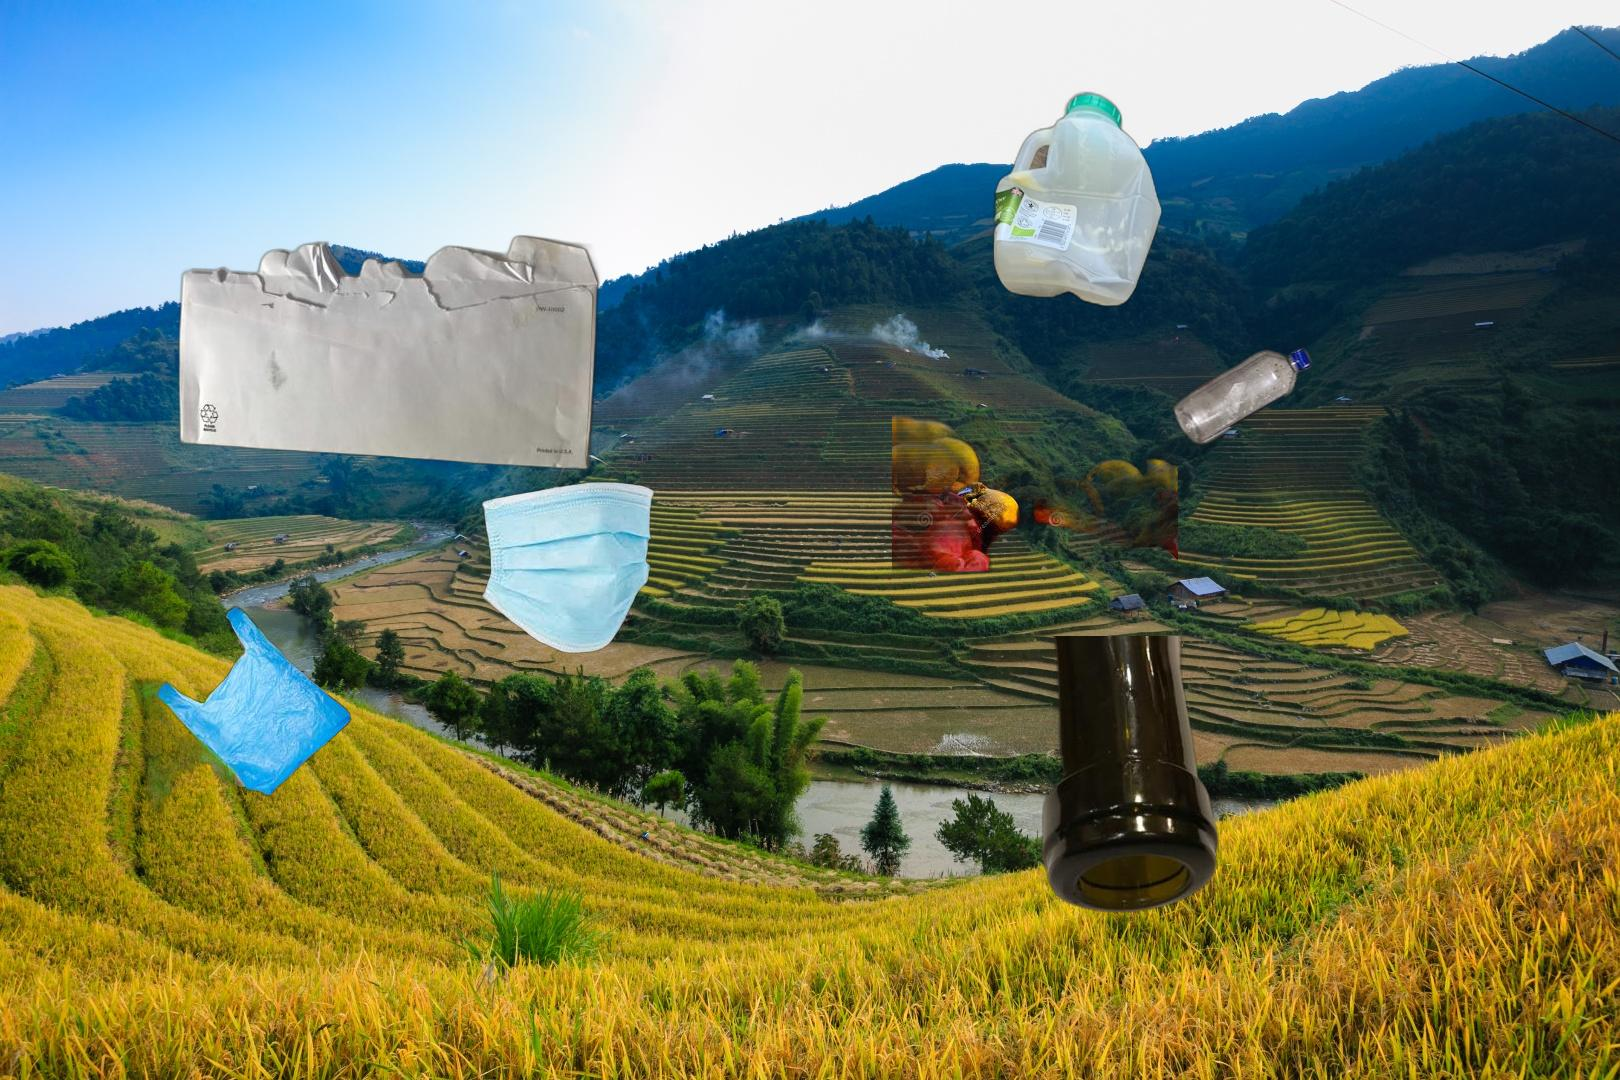biological: (892, 416, 1178, 592)
glass: (1037, 636, 1222, 916)
paper: (174, 233, 603, 472)
plastic-bag: (127, 603, 354, 815)
plastic-bottles: (1168, 342, 1620, 916), (990, 86, 1167, 313)
trash: (479, 452, 658, 655)
